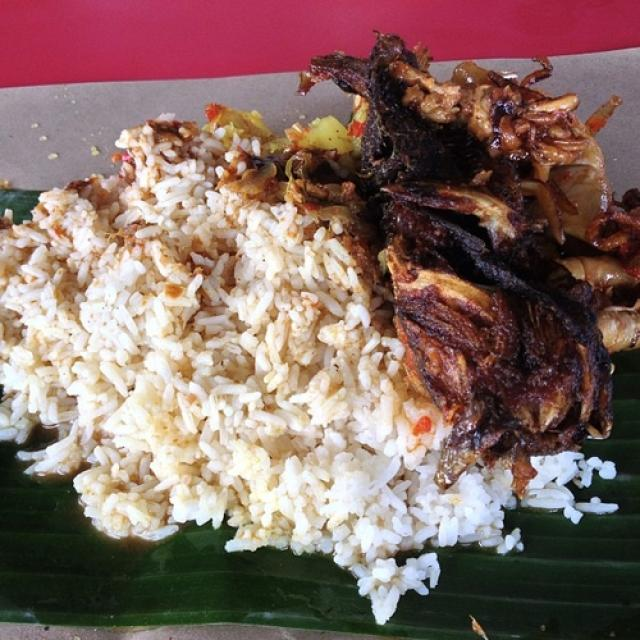米饭主食: (5, 35, 609, 618)
